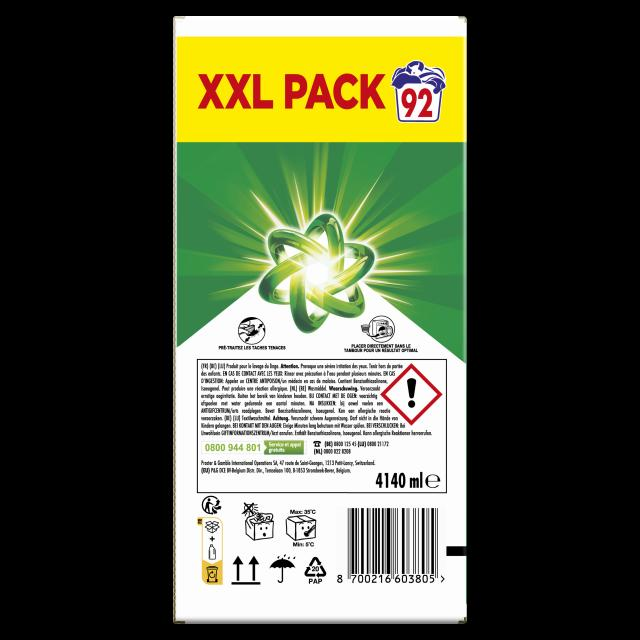GHS_Symbol_EXCLAMATION_MARK: (380, 363, 443, 426)
